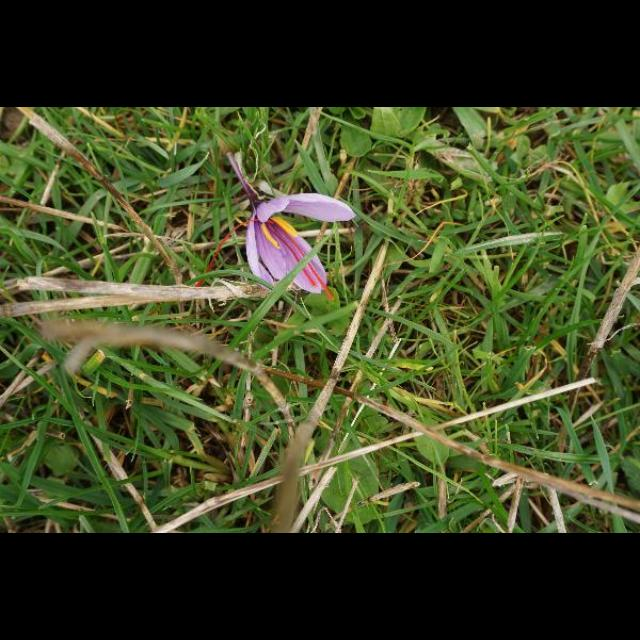flower: (246, 194, 356, 300)
